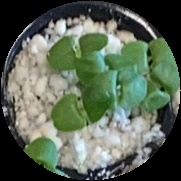Basil: (52, 82, 108, 129), (47, 32, 107, 69), (108, 55, 147, 102), (143, 62, 177, 111), (121, 40, 173, 65)
